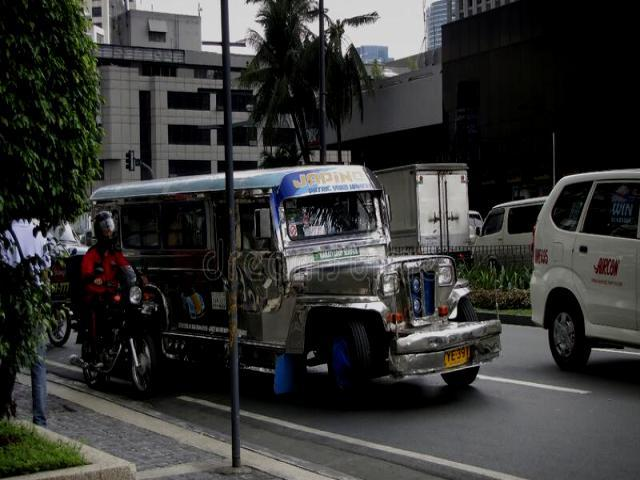jeepney: (88, 172, 508, 404)
